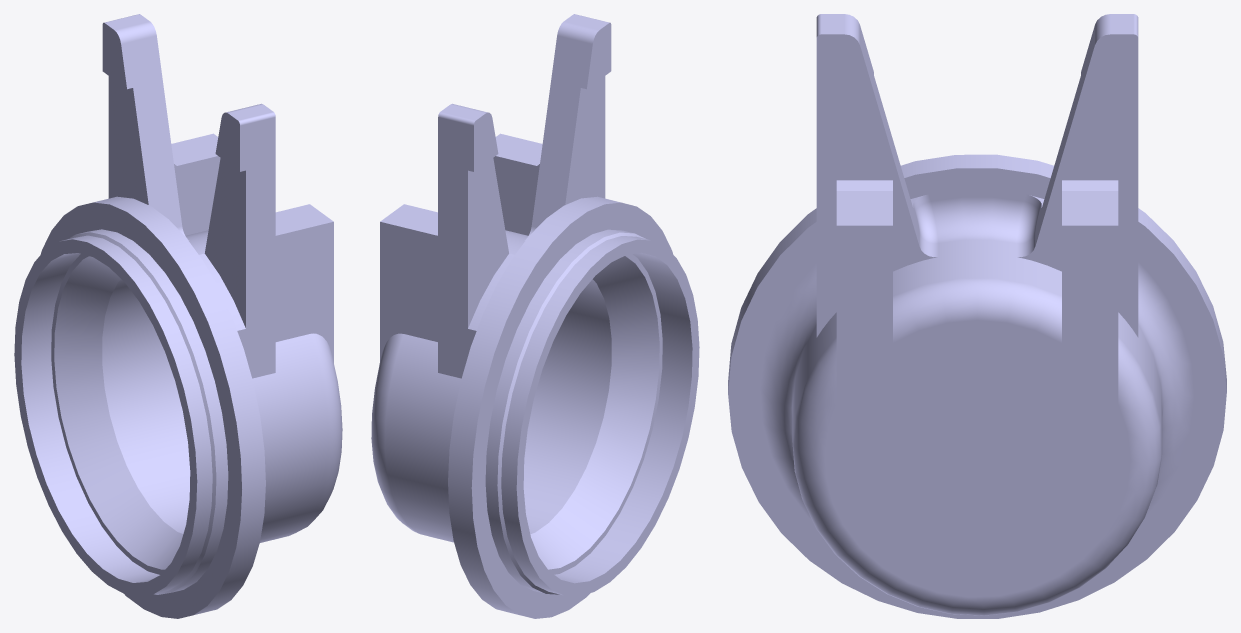
File: 轴套端盖.fbx
3 renders of one model, left to right at view 1: azimuth 30°, elevation 25°; view 2: azimuth 150°, elevation 25°; view 3: azimuth 270°, elevation 25°, orthographic. The views are drawn at different scales.
Parts seen in each view (by area): view 1: PartBody; view 2: PartBody; view 3: PartBody.
Boxes of the visible parts, left/top/right/bottom form: PartBody: left=14, top=14, right=342, bottom=618; PartBody: left=371, top=14, right=699, bottom=618; PartBody: left=728, top=14, right=1226, bottom=618.
Size of the model in its own units: 5.55 by 16.52 by 12.2.
